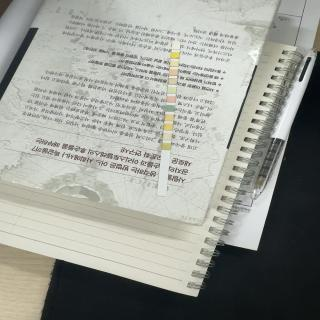mark: (162, 142, 171, 150), (168, 78, 177, 85), (164, 133, 172, 140), (166, 105, 174, 112), (164, 124, 172, 130), (165, 115, 173, 121), (167, 96, 175, 102), (168, 87, 176, 93), (169, 69, 177, 75), (172, 52, 180, 58), (171, 60, 178, 66), (172, 44, 180, 49)
